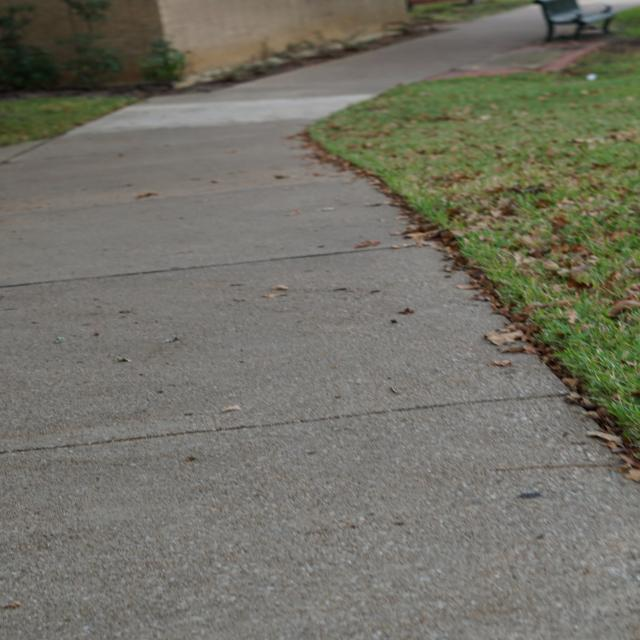Obstacle: (535, 0, 615, 41)
Sidewalk: (0, 6, 638, 638)
